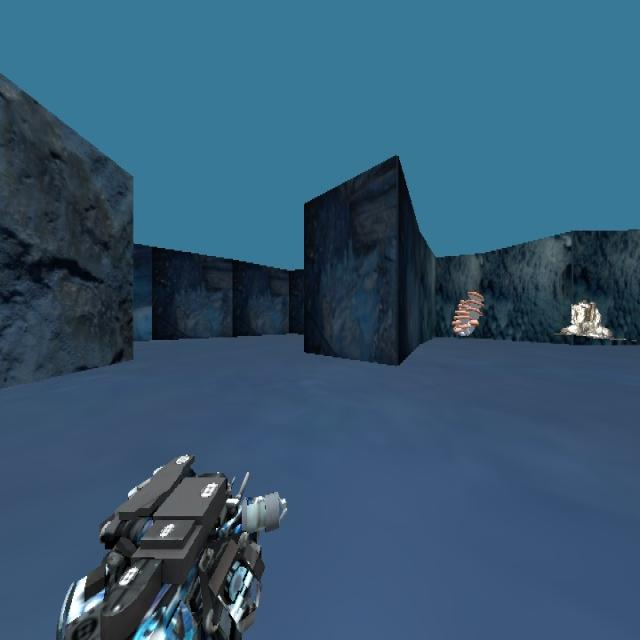Ice: (551, 286, 629, 354)
Mushroom: (450, 288, 484, 337)
